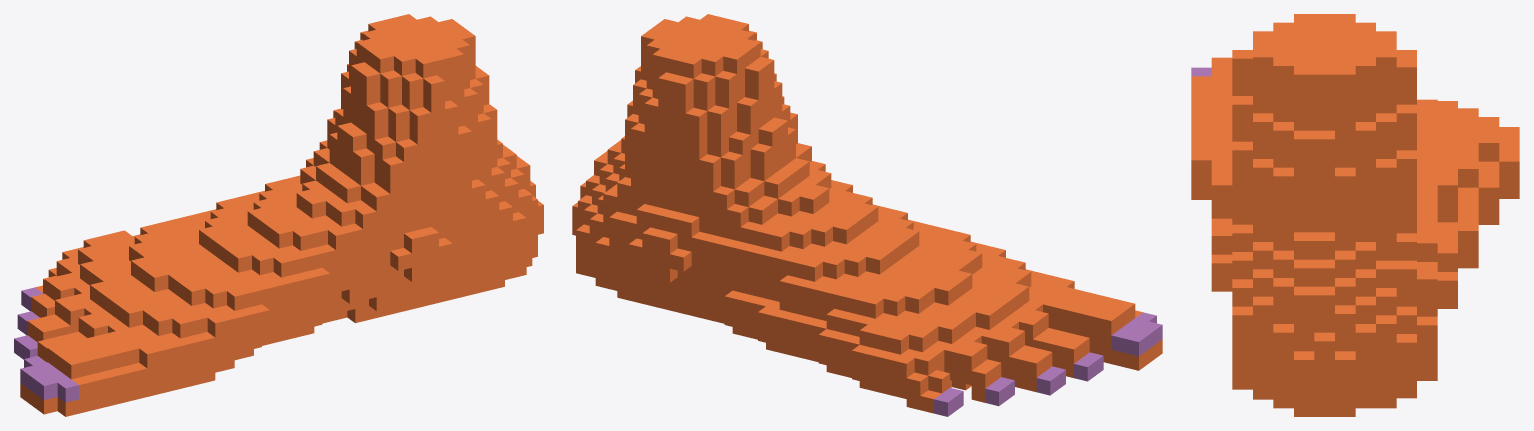
The model's file is Olive.fbx.
3 renders of one model, left to right at view 1: azimuth 30°, elevation 25°; view 2: azimuth 150°, elevation 25°; view 3: azimuth 270°, elevation 25°, orthographic. The views are drawn at different scales.
Parts seen in each view (by area): view 1: Untitled; view 2: Untitled; view 3: Untitled.
Part boxes in pixels (x1,y1,x2,y2): Untitled: (14, 14, 543, 416); Untitled: (572, 14, 1162, 416); Untitled: (1191, 14, 1519, 416).
Bounding box in the file's own units: 390 × 170 × 160.
